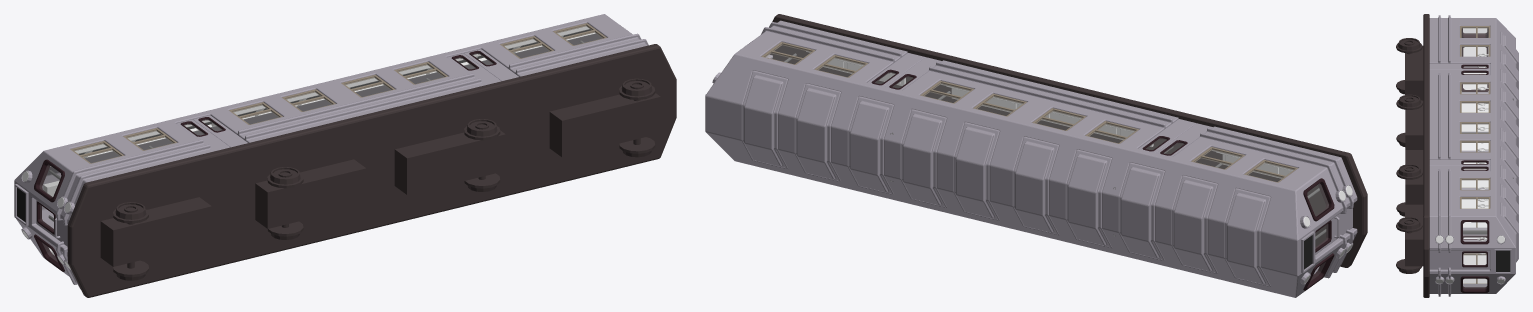
Rendered from Subway_Train_Mid 2.fbx.
3 views of the same model, side by side, from view 1: azimuth 30°, elevation 25°; view 2: azimuth 150°, elevation 25°; view 3: azimuth 270°, elevation 25° (orthographic). The views are drawn at different scales.
Parts seen in each view (by area): view 1: Subway_Train_Mid; view 2: Subway_Train_Mid; view 3: Subway_Train_Mid.
Boxes of the visible parts, x1,y1,x2,y2 form: Subway_Train_Mid: (14,14,676,297); Subway_Train_Mid: (705,14,1367,297); Subway_Train_Mid: (1396,14,1518,297).
Bounding box in the file's own units: 1534 × 371 × 276.
